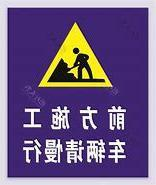sign: (9, 7, 144, 177)
